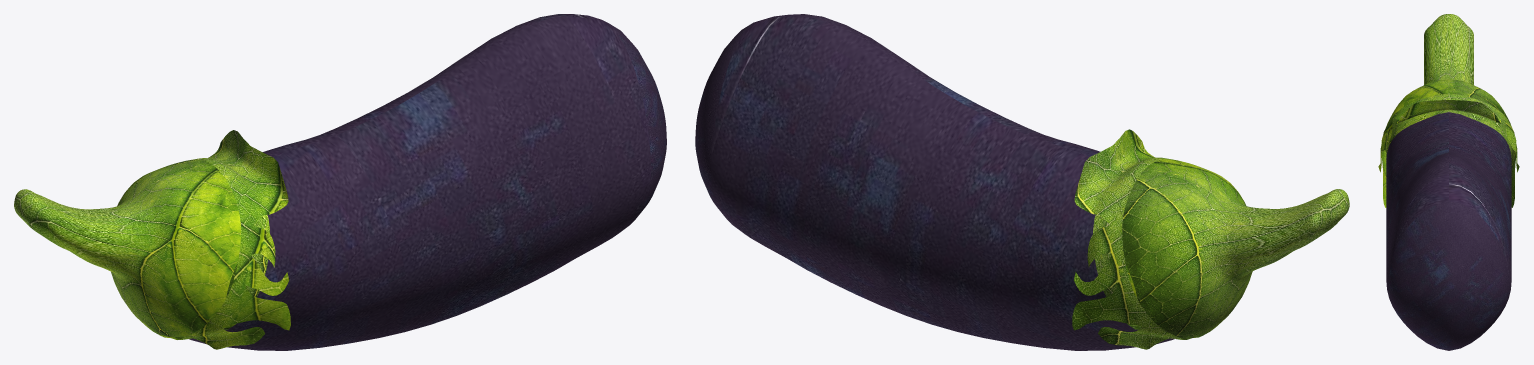
The model's file is Eggplant 1.fbx.
3 views of the same model, side by side, from view 1: azimuth 30°, elevation 25°; view 2: azimuth 150°, elevation 25°; view 3: azimuth 270°, elevation 25° (orthographic). The views are drawn at different scales.
Visible parts, largest first — view 1: pSphere4; view 2: pSphere4; view 3: pSphere4.
Boxes of the visible parts, bbox=[...] form: pSphere4: bbox=[14, 14, 666, 350]; pSphere4: bbox=[695, 14, 1349, 350]; pSphere4: bbox=[1378, 14, 1519, 350].
Bounding box in the file's own units: 8.82 × 3.67 × 2.32.
